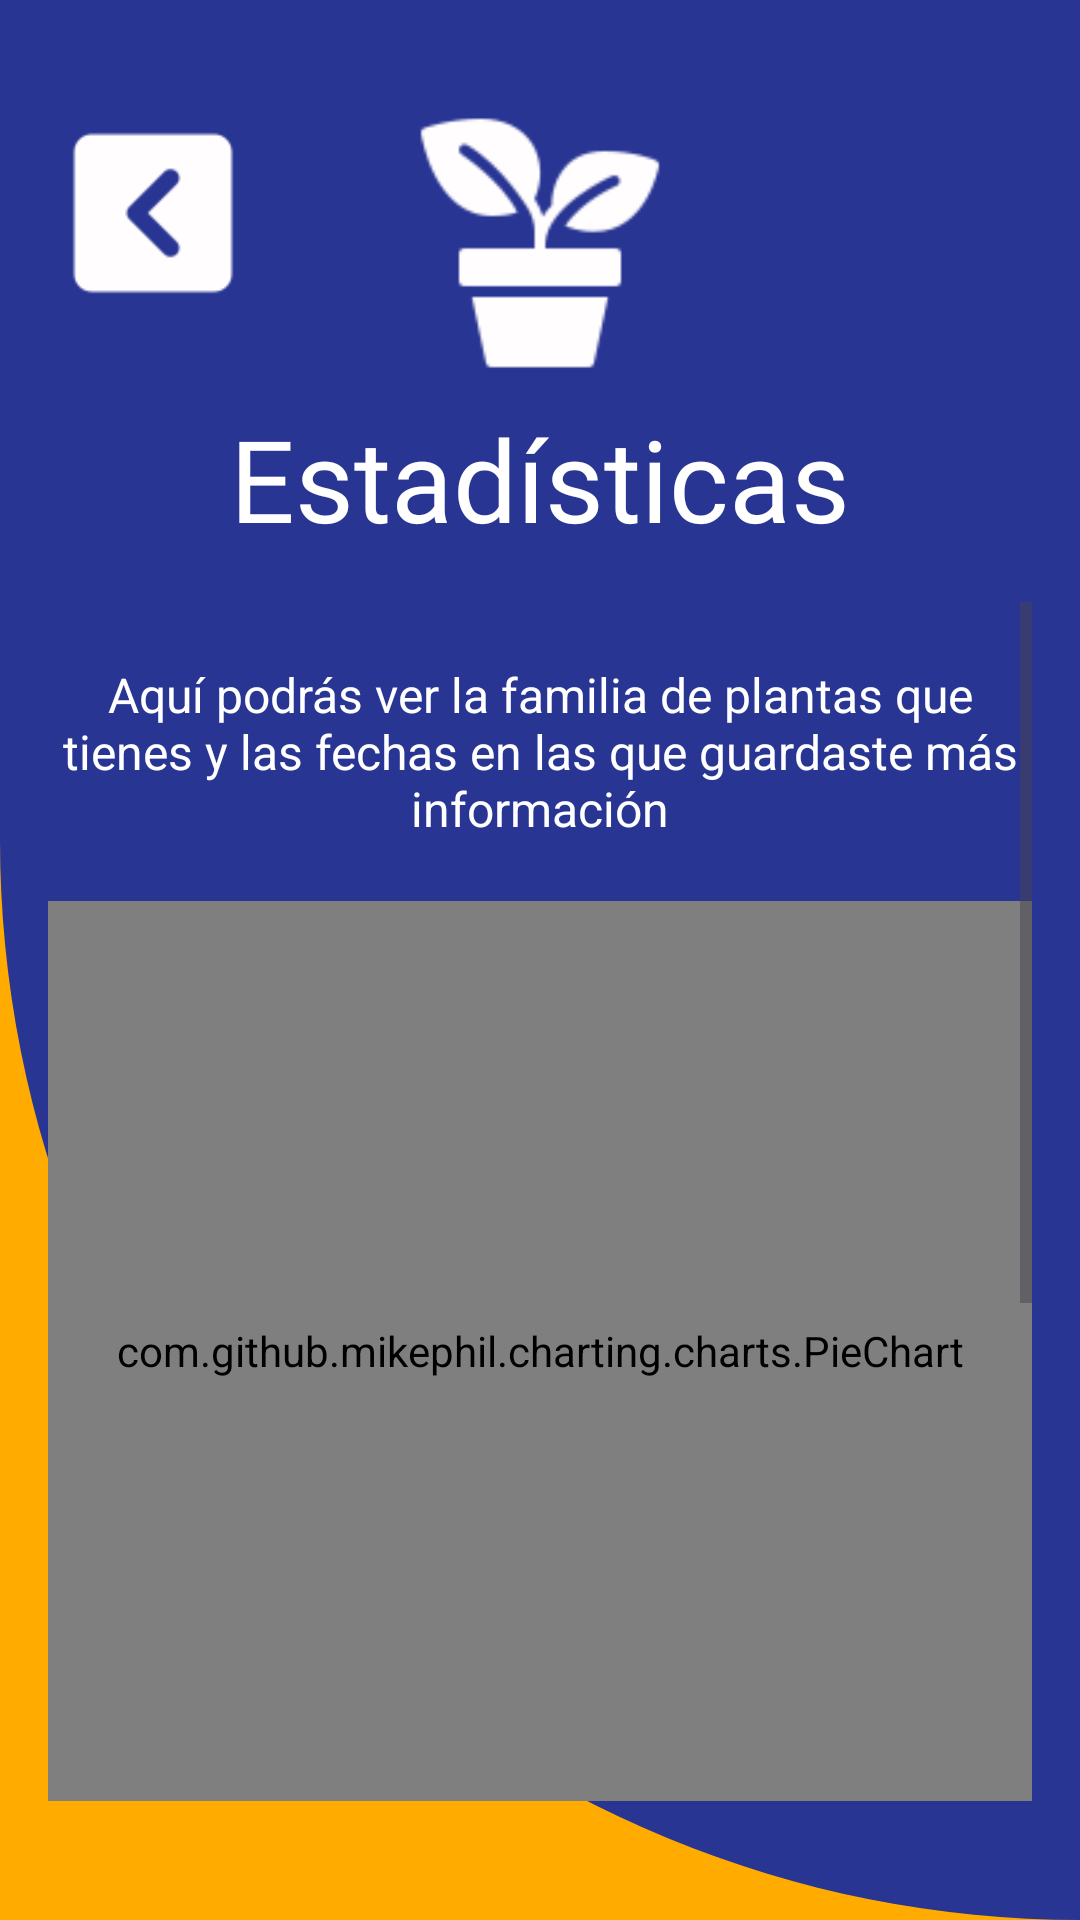

Icons on this 1080 × 1920 Android screen, each with its box as (x1, y1, x2, y2):
maceta: (420, 118, 660, 368)
